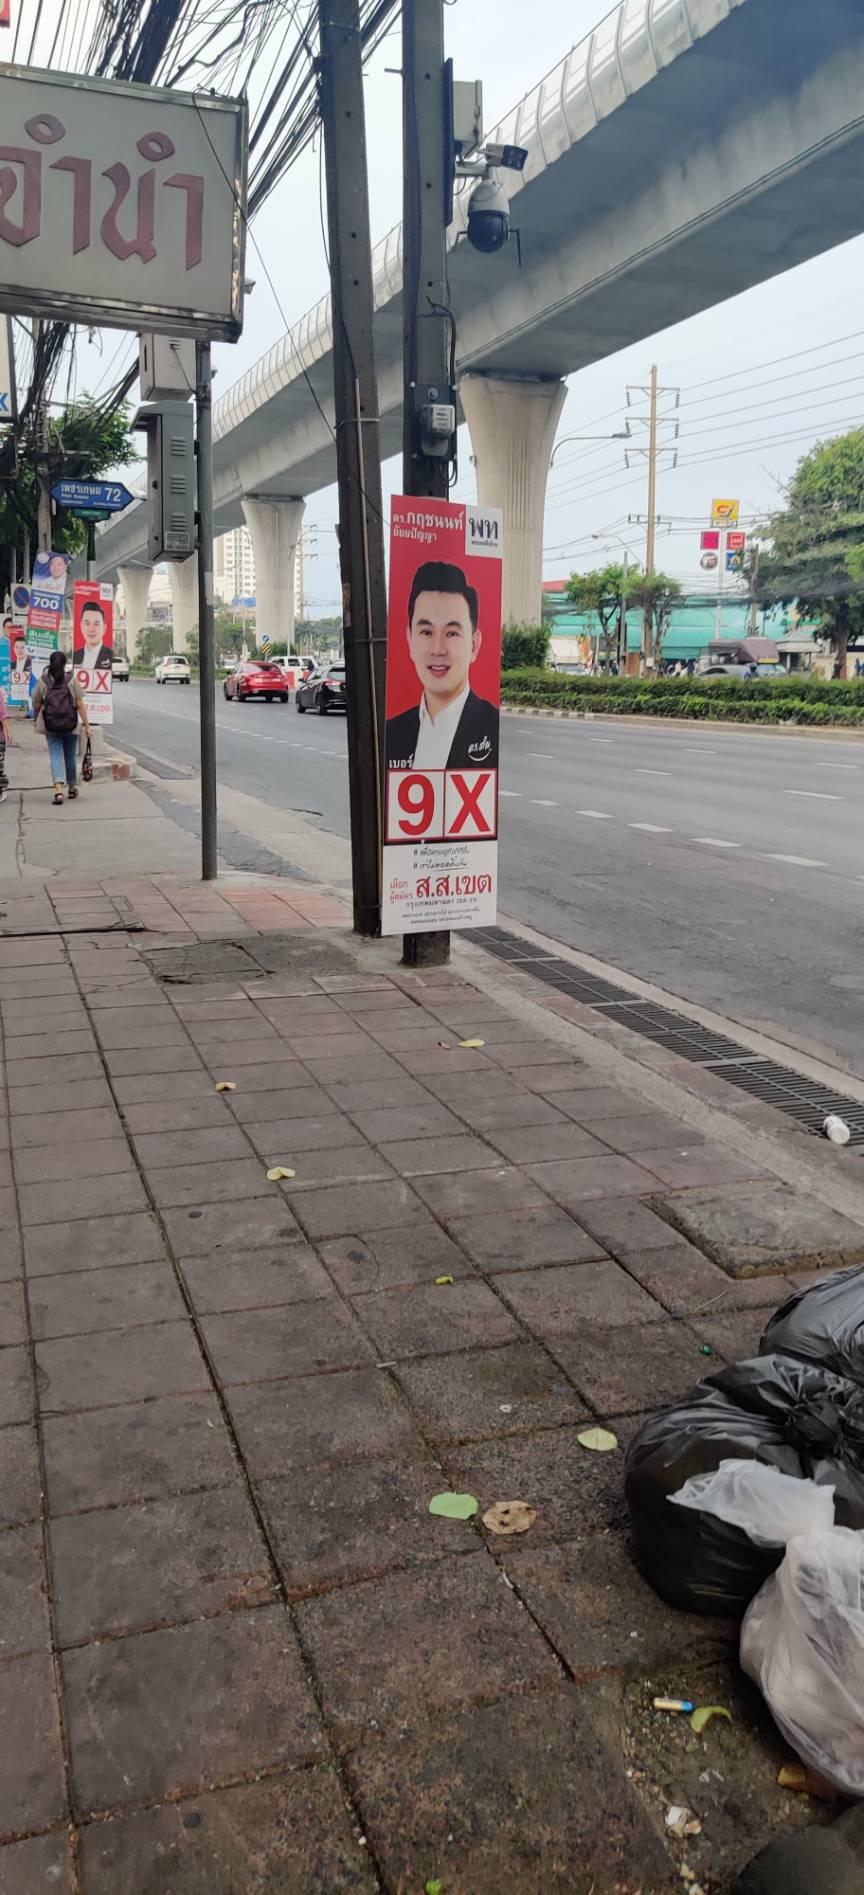Banner: (376, 496, 515, 923)
